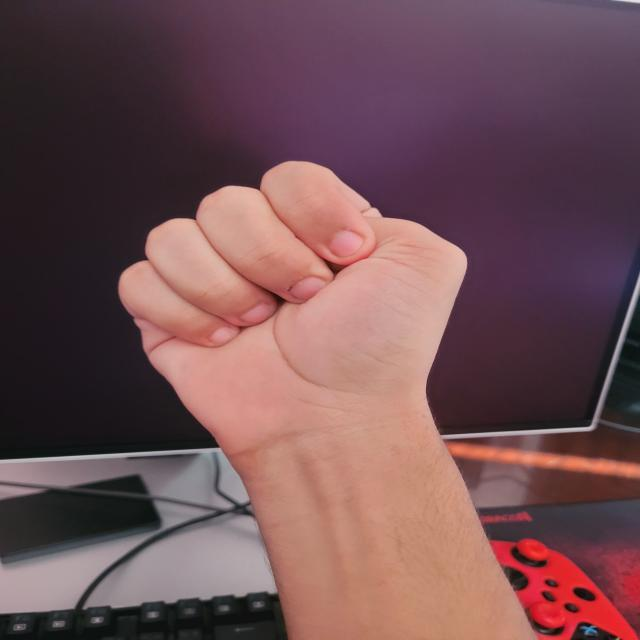Closed Hand: (114, 158, 472, 428)
